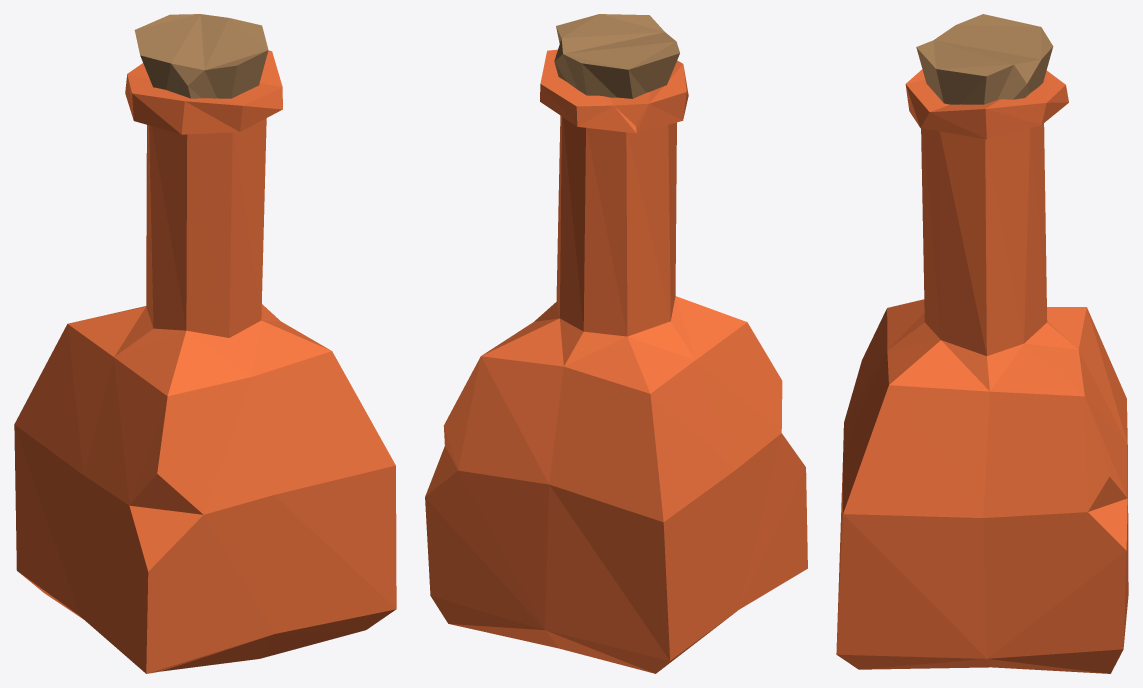
The model's file is AWS_Potion_Orange_016.fbx.
The picture shows the model from 3 angles, left to right: view 1: azimuth 30°, elevation 25°; view 2: azimuth 150°, elevation 25°; view 3: azimuth 270°, elevation 25°; orthographic projection.
Visible parts, largest first — view 1: AWS_Potion_Orange_016; view 2: AWS_Potion_Orange_016; view 3: AWS_Potion_Orange_016.
Part boxes in pixels (box(x1,y1,x2,y2)): AWS_Potion_Orange_016: box(14, 14, 396, 673); AWS_Potion_Orange_016: box(425, 14, 807, 673); AWS_Potion_Orange_016: box(836, 14, 1128, 673).
Size of the model in its own units: 5.54 by 12.29 by 5.61.
